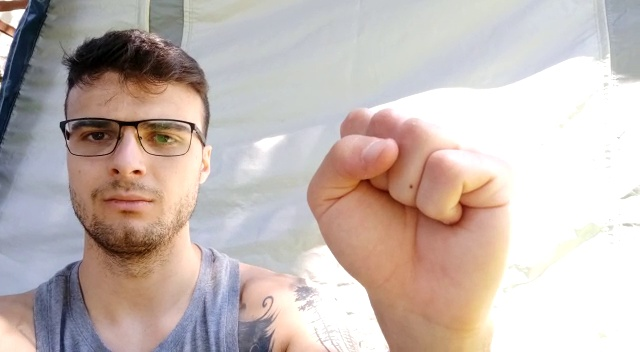Fist: (303, 98, 519, 352)
